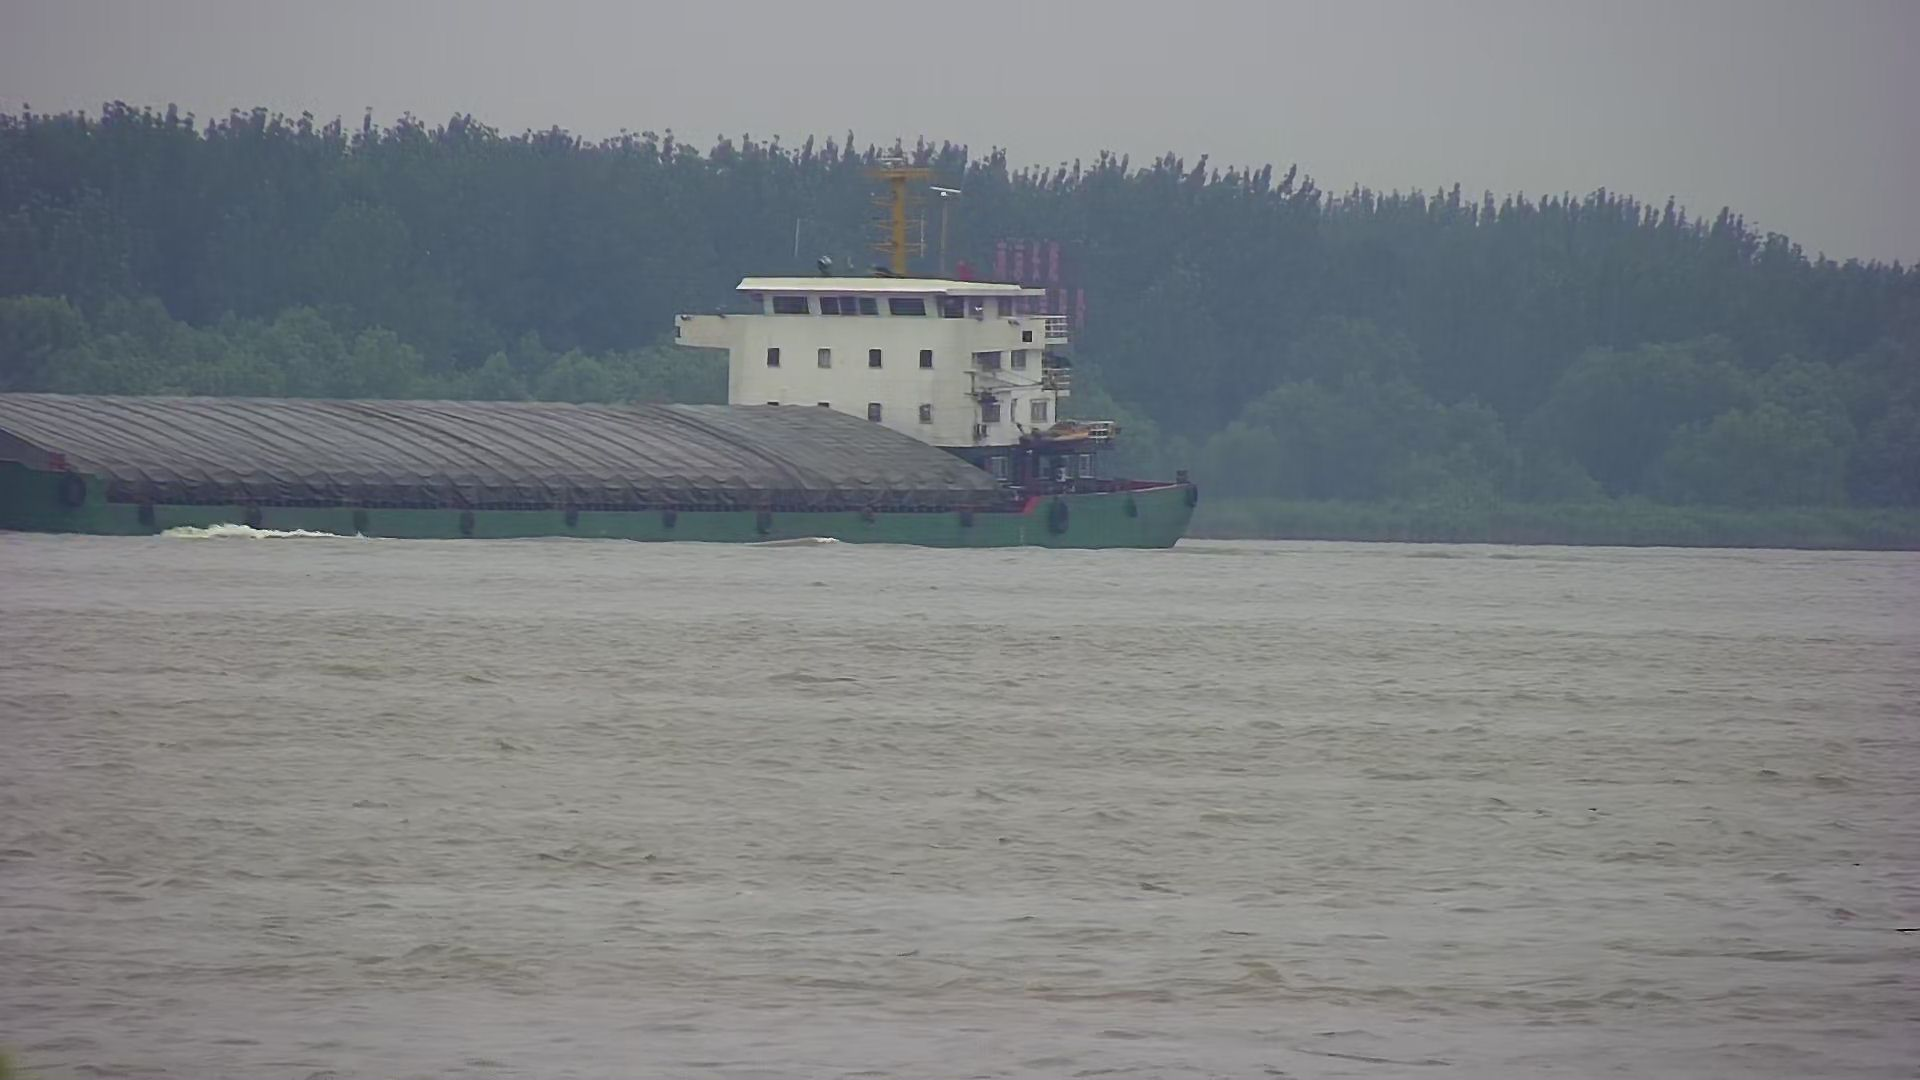ship: (3, 154, 1195, 564)
